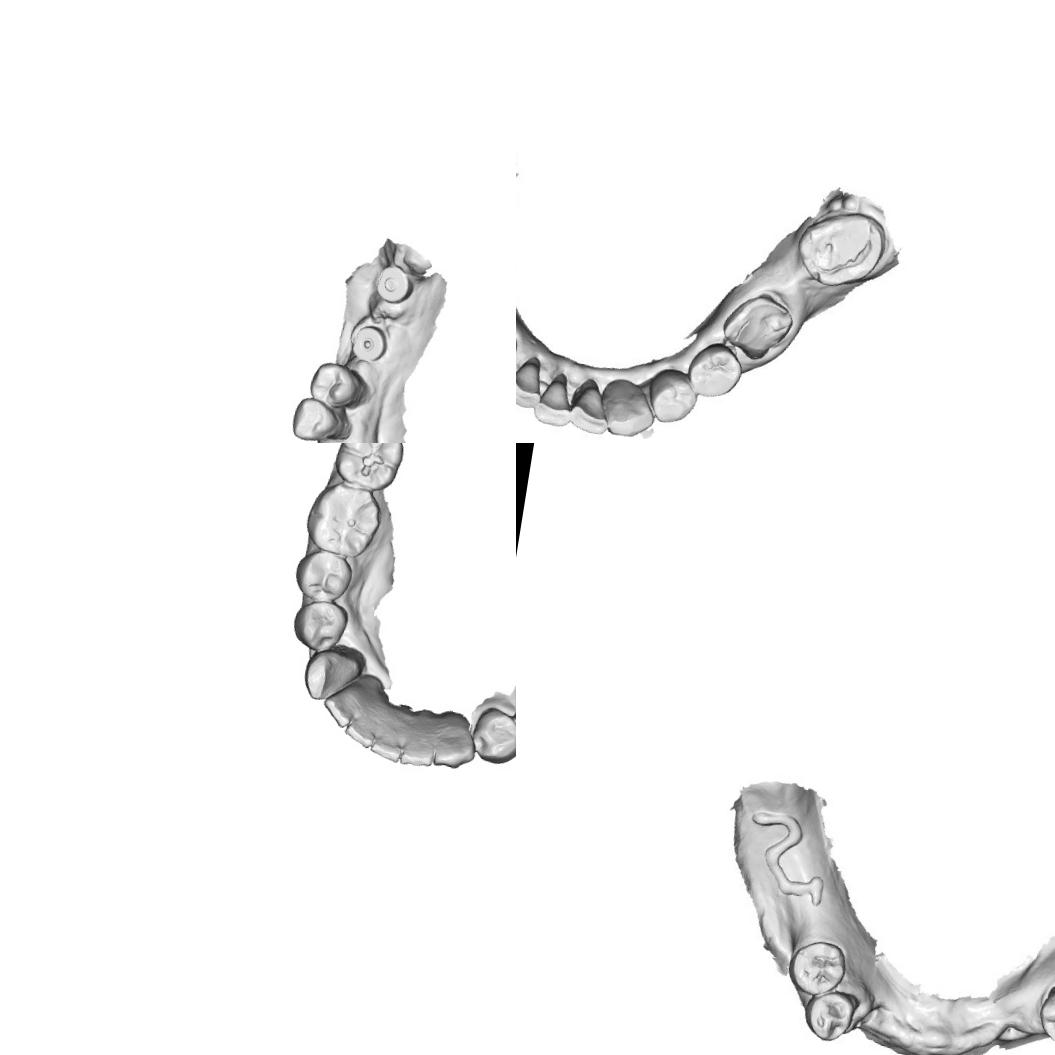canine: (597, 373, 658, 442), (299, 644, 365, 706), (289, 394, 355, 443), (432, 708, 482, 772)
implant: (371, 262, 418, 307), (350, 322, 392, 364)
incisor: (529, 368, 575, 428), (564, 374, 610, 433), (398, 706, 440, 768), (320, 683, 362, 732), (516, 352, 545, 409), (368, 723, 406, 765), (342, 712, 379, 751)
molar: (790, 198, 888, 296), (301, 477, 386, 562), (720, 288, 796, 370), (329, 443, 408, 495)
premolar: (678, 336, 746, 408), (784, 936, 850, 1001), (291, 545, 356, 606), (289, 596, 352, 656), (800, 985, 861, 1045), (643, 364, 702, 426), (306, 358, 368, 411), (468, 703, 516, 767), (1034, 981, 1055, 1047)
